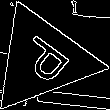P_SE: (9, 29, 75, 90)
